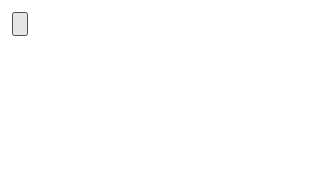
MoreMenu › runs the picked action once and closes
The width and height of the screenshot is (332, 172).
Click the button named "More actions": (20, 24) [12,12,28,36]
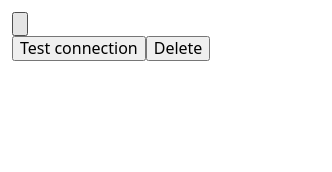
Click the menu item "Delete": (178, 49) [146,36,210,61]
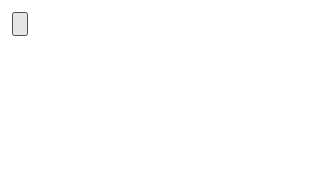
Expected: the menu is gone
